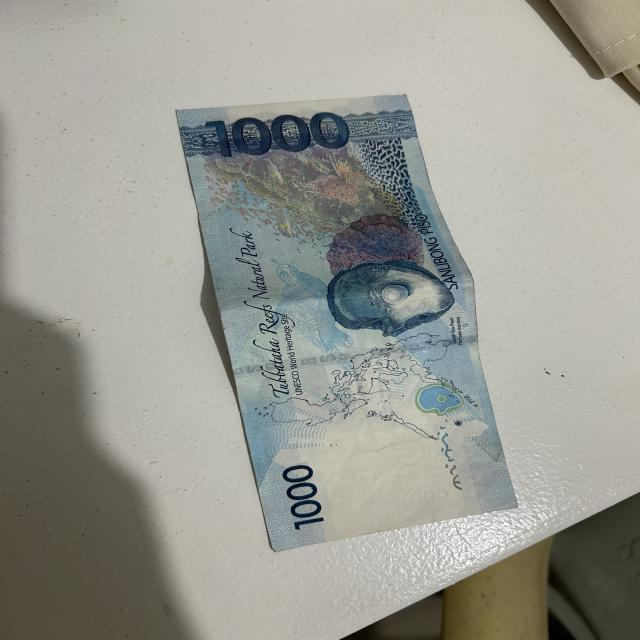1000_pearl: (330, 264, 451, 338)
1000_pearl_watermark: (406, 379, 466, 420)
